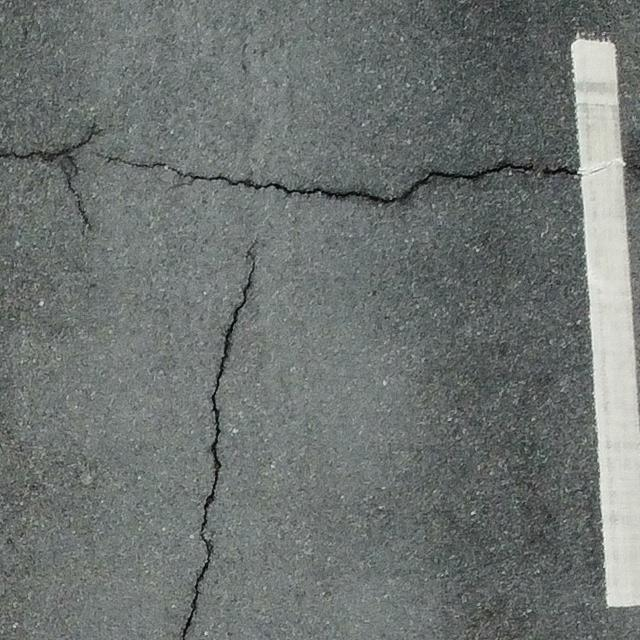LongitudinalCrack: (180, 242, 258, 640)
TransverseCrack: (9, 122, 608, 234)
